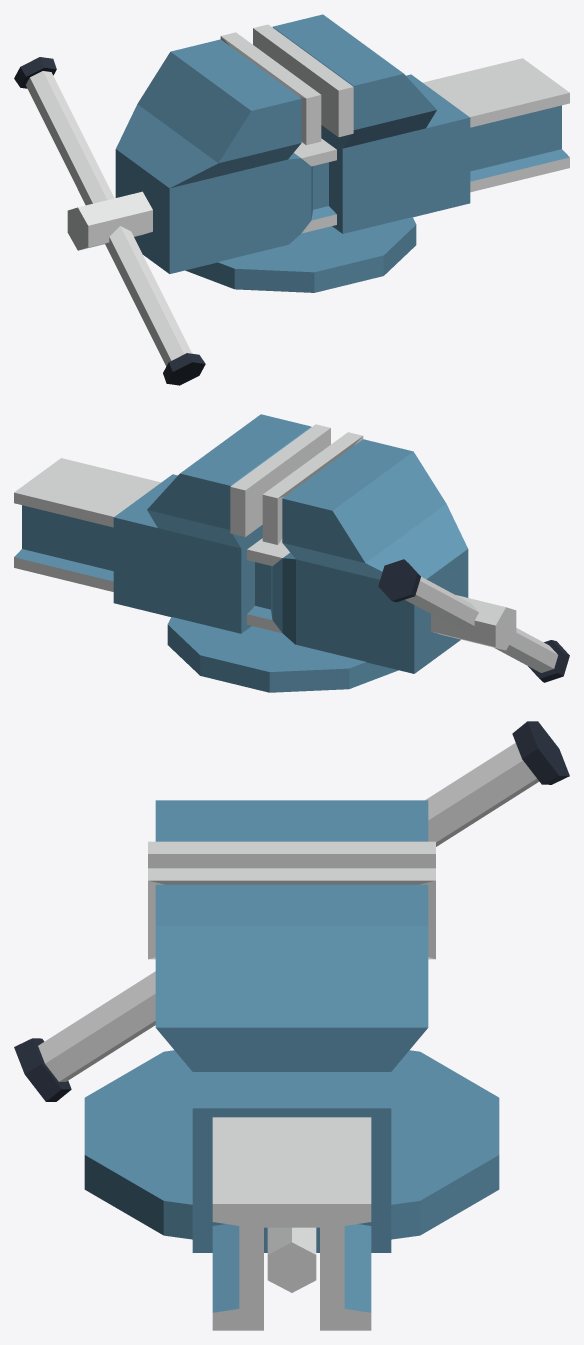
Rendered from press.glb.
3 views of the same model, one above another, from view 1: azimuth 30°, elevation 25°; view 2: azimuth 150°, elevation 25°; view 3: azimuth 270°, elevation 25° (orthographic). The views are drawn at different scales.
Parts seen in each view (by area): view 1: Box005_Material #32_0; view 2: Box005_Material #32_0; view 3: Box005_Material #32_0.
Boxes of the visible parts, <box> form: Box005_Material #32_0: <box>14,14,569,385</box>; Box005_Material #32_0: <box>14,414,569,692</box>; Box005_Material #32_0: <box>14,721,569,1330</box>.
Size of the model in its own units: 33.54 by 15.71 by 20.48.
1 material, 1 textured.
